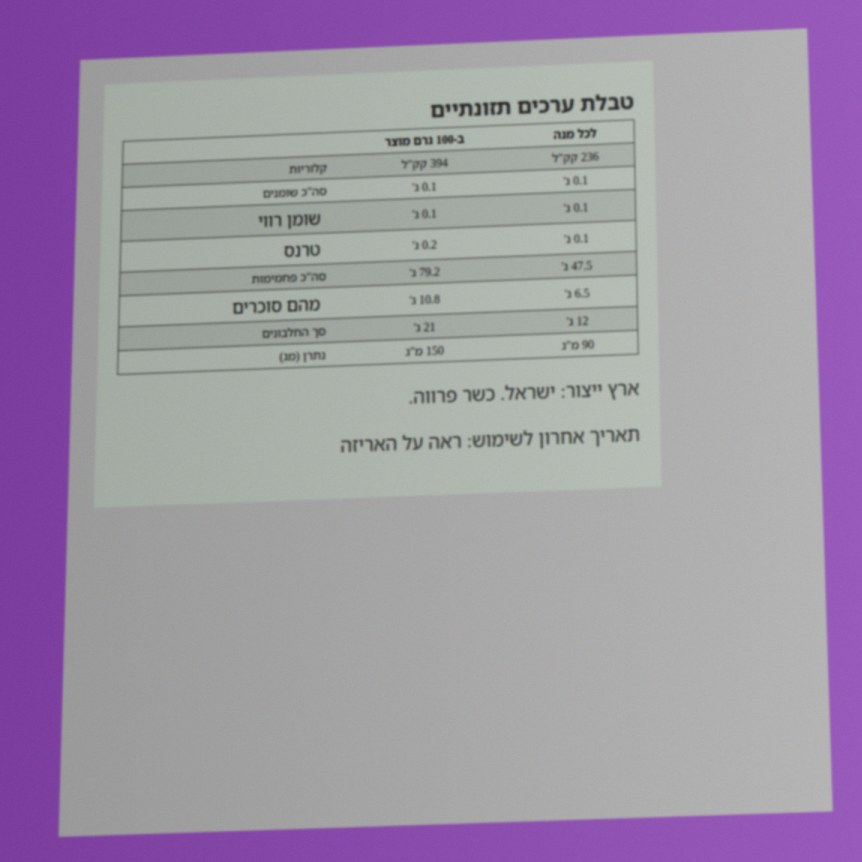carbs: (407, 261, 442, 283)
energy: (399, 152, 450, 175)
fat: (410, 176, 439, 197)
protein: (412, 316, 438, 338)
